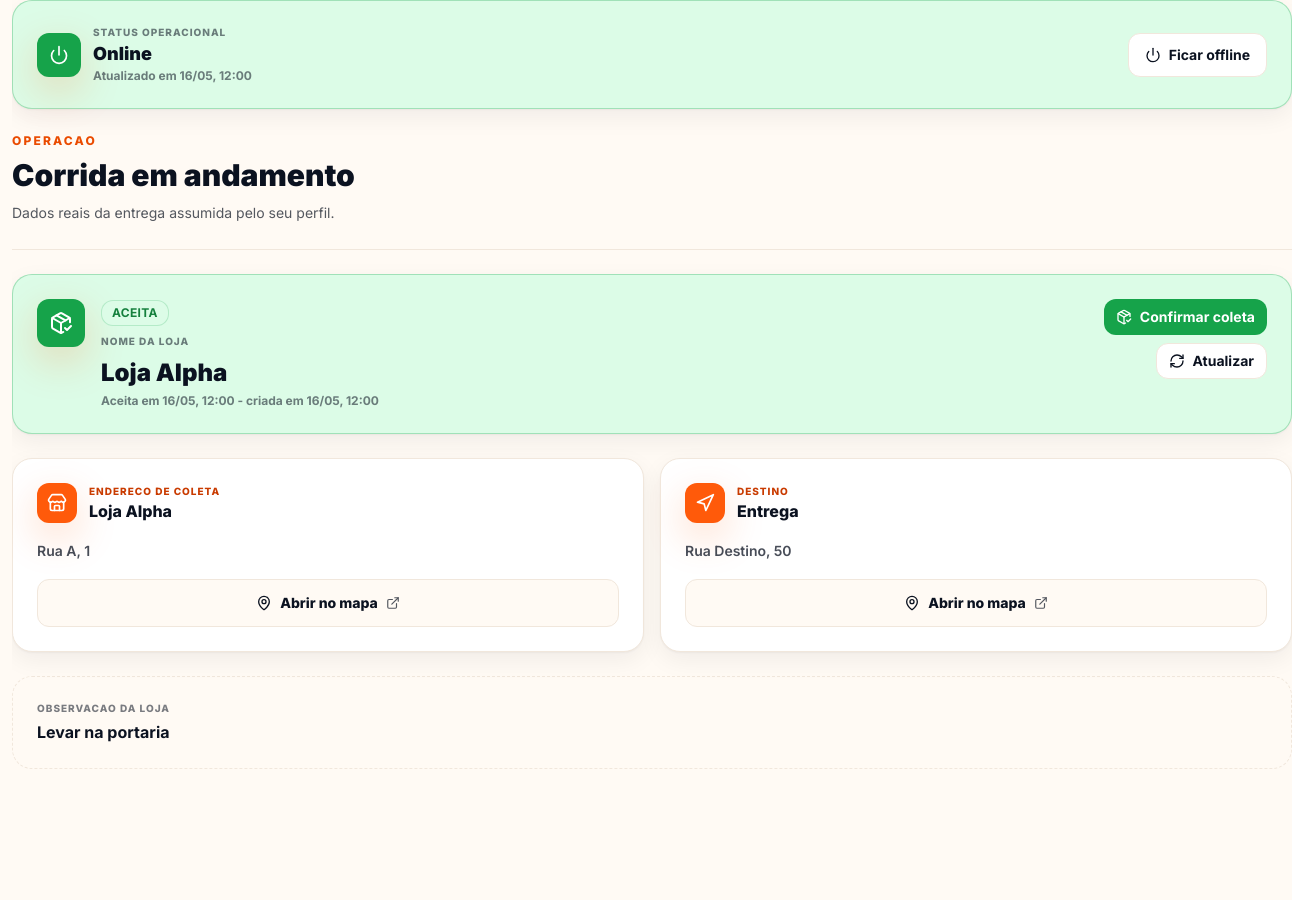
Test: MotoboyRealFlow › advances the active delivery status and shows the next action
Click the button "Confirmar coleta": (1185, 317) [1104,299,1267,335]
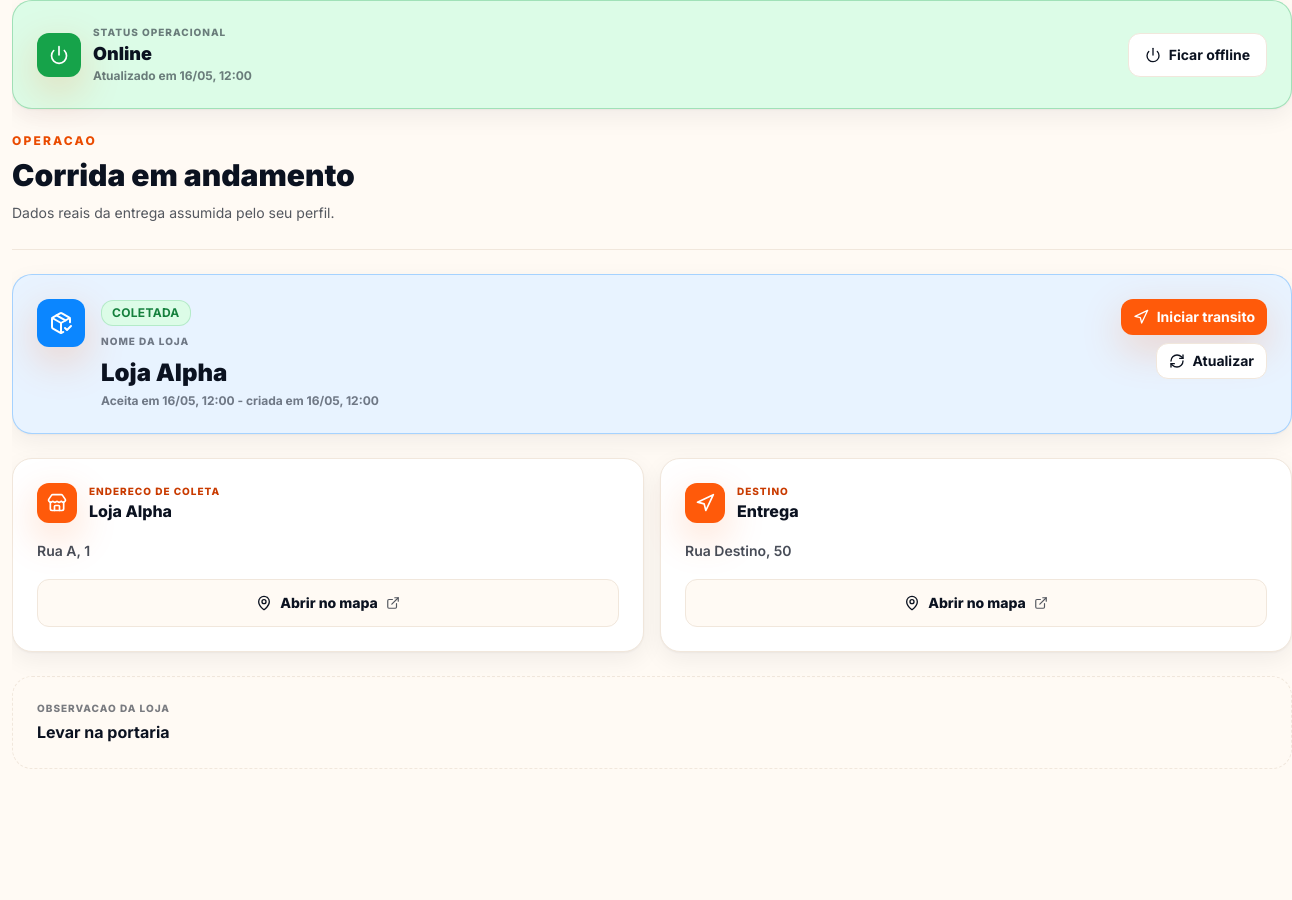
Result: the text "Coletada" is shown at [101,300,191,326]
Result: the button "Iniciar transito" is shown at [1121,299,1267,335]
